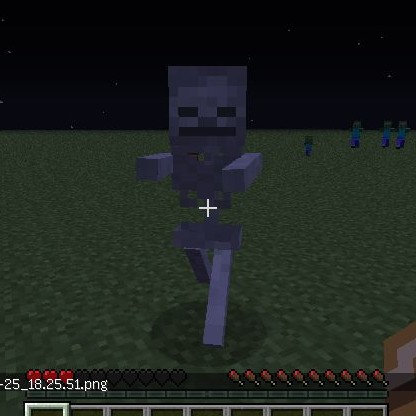skeleton: (155, 60, 262, 346)
